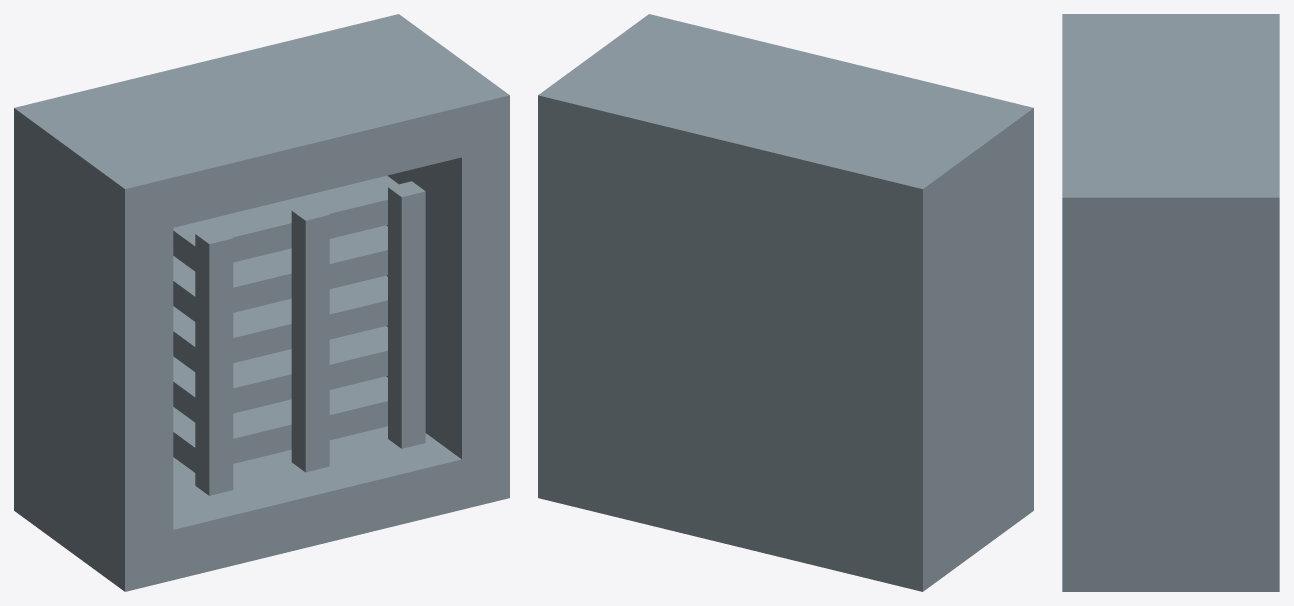
Rendered from landmark-relay.glb.
3 renders of one model, left to right at view 1: azimuth 30°, elevation 25°; view 2: azimuth 150°, elevation 25°; view 3: azimuth 270°, elevation 25°, orthographic. The views are drawn at different scales.
Visible parts, largest first — view 1: landmark-relay; view 2: landmark-relay; view 3: landmark-relay.
Boxes of the visible parts, box(x1,y1,x2,y2) form: landmark-relay: box(14, 14, 509, 591); landmark-relay: box(538, 14, 1033, 591); landmark-relay: box(1062, 14, 1279, 591).
Bounding box in the file's own units: 2 × 2 × 1.
